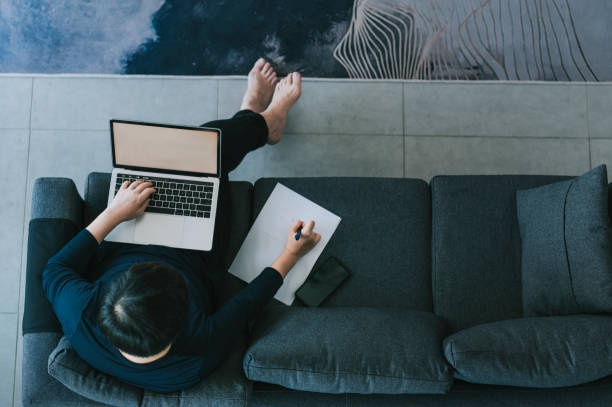keyboard: (111, 172, 215, 221)
laptop: (103, 119, 221, 254)
person: (57, 56, 303, 392)
screen: (107, 120, 221, 175)
